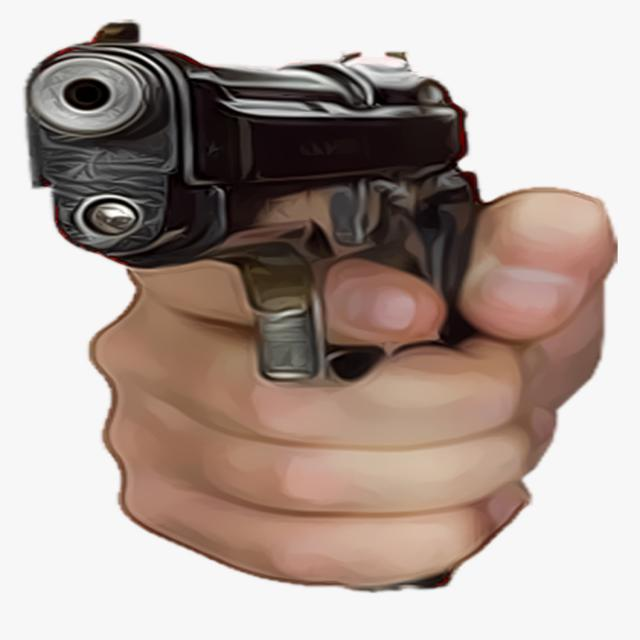HandGun: (25, 23, 476, 384)
